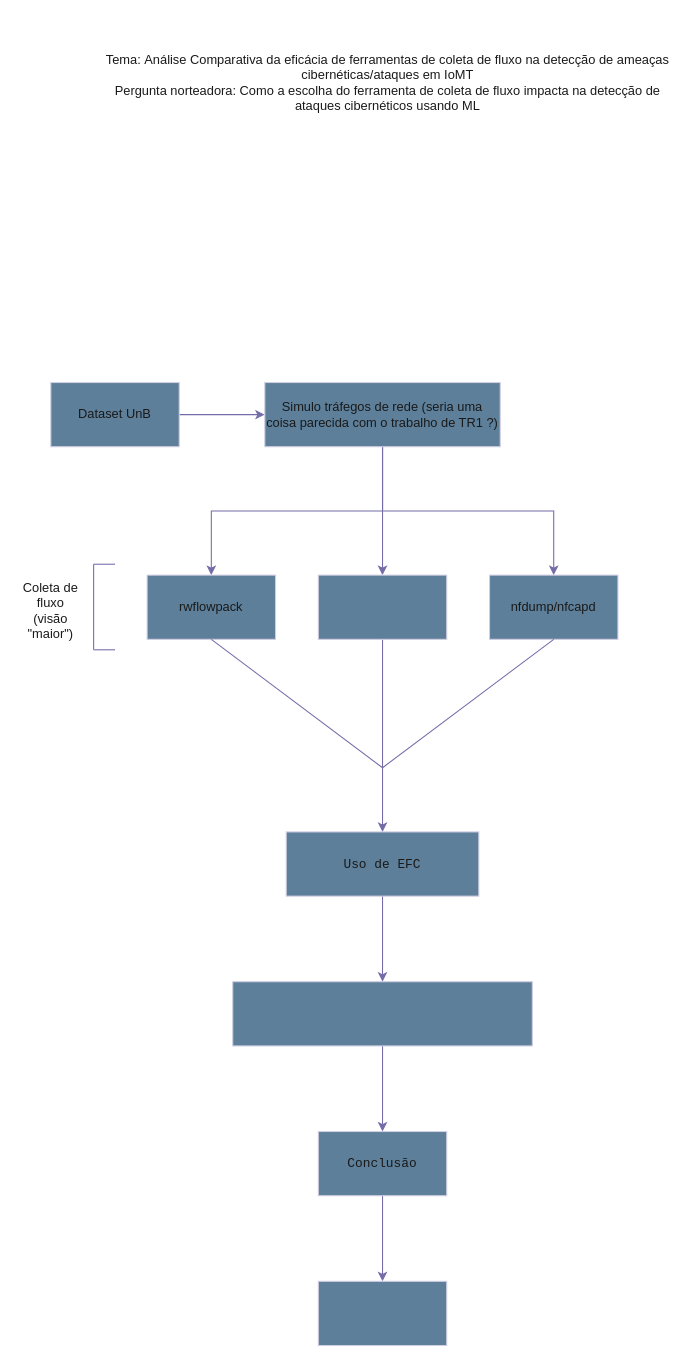
This 689x1364 diagram has some shape labels left out. Here are the shapes that lost their labels. From the top down, the box of each, then its label:
(317, 574, 447, 639): sflowtool
(232, 981, 532, 1046): Avaliando os resultados obtidos (F1-score, AUC-ROC, acurácia (?))
(317, 1280, 447, 1346): SS
